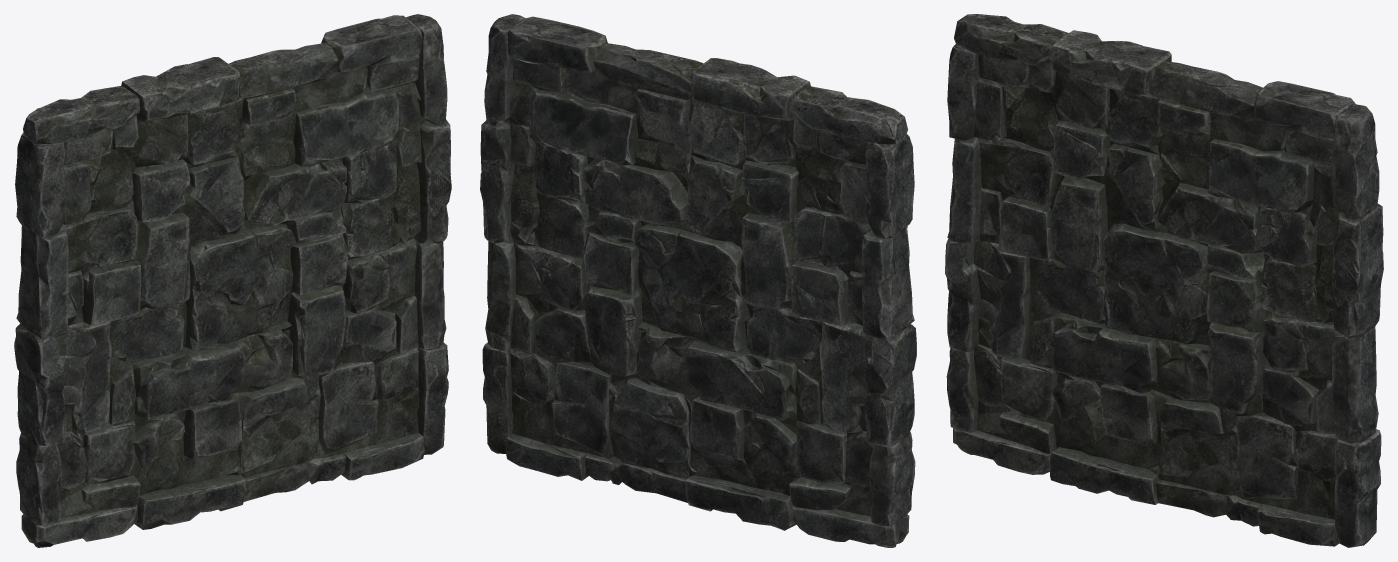
File: floor.glb
The picture shows the model from 3 angles, left to right: view 1: azimuth 30°, elevation 25°; view 2: azimuth 150°, elevation 25°; view 3: azimuth 330°, elevation 25°; orthographic projection.
Visible parts, largest first — view 1: Mesh_0; view 2: Mesh_0; view 3: Mesh_0.
Boxes of the visible parts, box(x1,y1,x2,y2) form: Mesh_0: box(14, 14, 451, 547); Mesh_0: box(480, 14, 916, 547); Mesh_0: box(945, 14, 1383, 547).
Size of the model in its own units: 1.89 by 1.9 by 0.2393.
1 material, 1 textured.
